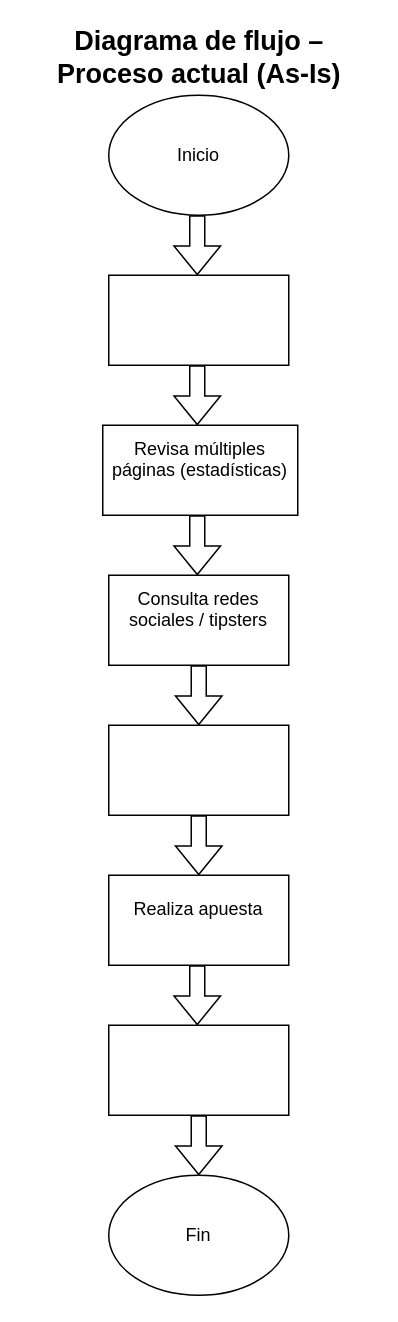
This 398x1322 diagram has some shape labels left out. The centre of each missing label's shape, as x and y in pixels:
"Analiza información sin respaldo estadístico" goes at point 198,769.
"Obtiene resultado" goes at point 198,1069.
"Usuario busca información" goes at point 198,319.
